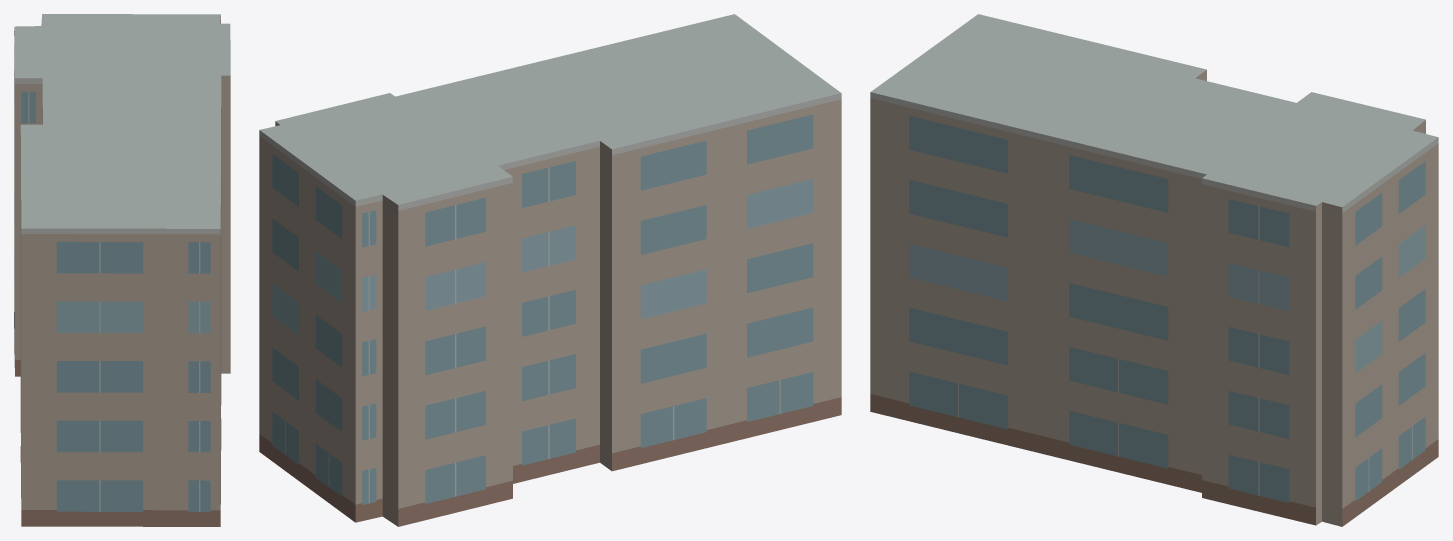
The model's file is survey-upis-32998878.glb.
3 views of the same model, side by side, from view 1: azimuth 30°, elevation 25°; view 2: azimuth 150°, elevation 25°; view 3: azimuth 270°, elevation 25° (orthographic). The views are drawn at different scales.
Parts seen in each view (by area): view 1: survey-upis-32998878.tmp; view 2: survey-upis-32998878.tmp; view 3: survey-upis-32998878.tmp.
Part boxes in pixels (bbox=[...]): survey-upis-32998878.tmp: bbox=[14, 14, 230, 526]; survey-upis-32998878.tmp: bbox=[259, 14, 841, 526]; survey-upis-32998878.tmp: bbox=[870, 14, 1438, 526].
Size of the model in its own units: 17 by 13.1 by 21.11.
